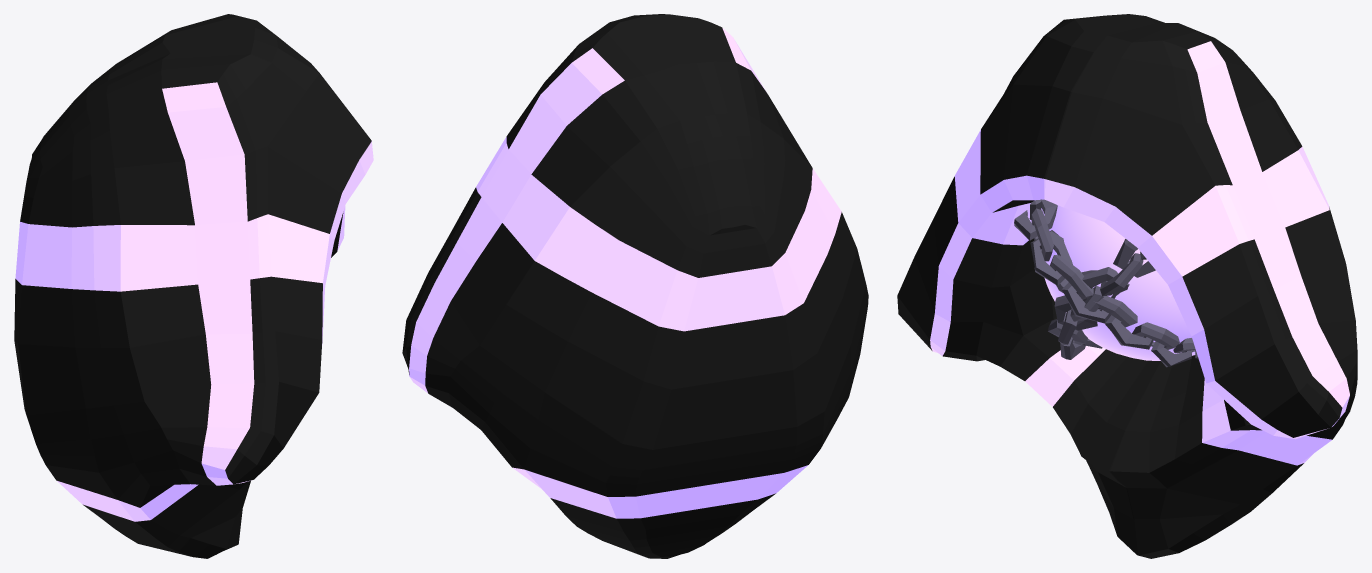
Rendered from Enemy_1.fbx.
3 renders of one model, left to right at view 1: azimuth 30°, elevation 25°; view 2: azimuth 150°, elevation 25°; view 3: azimuth 270°, elevation 25°, orthographic. The views are drawn at different scales.
Parts seen in each view (by area): view 1: RetopoFlow; view 2: RetopoFlow; view 3: RetopoFlow, Torus.002, enemy2.004.
Part boxes in pixels (bbox=[...]): RetopoFlow: bbox=[14, 14, 373, 558]; RetopoFlow: bbox=[402, 14, 868, 558]; RetopoFlow: bbox=[897, 14, 1357, 558]; Torus.002: bbox=[1014, 199, 1198, 367]; enemy2.004: bbox=[1044, 205, 1195, 360].
Bounding box in the file's own units: 252 × 355 × 278.
